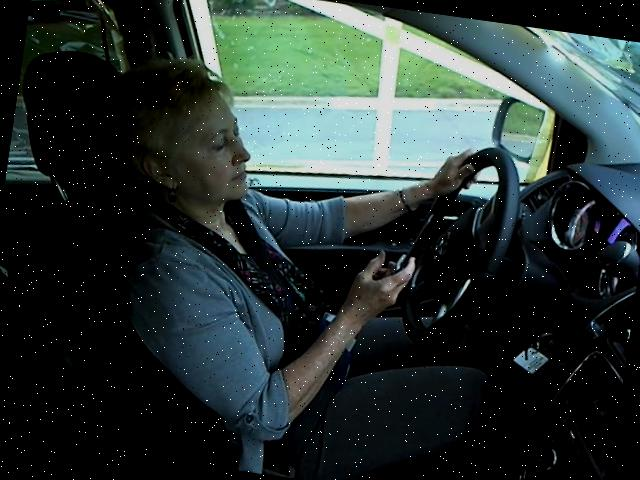c1 - Texting: (59, 32, 542, 471)
